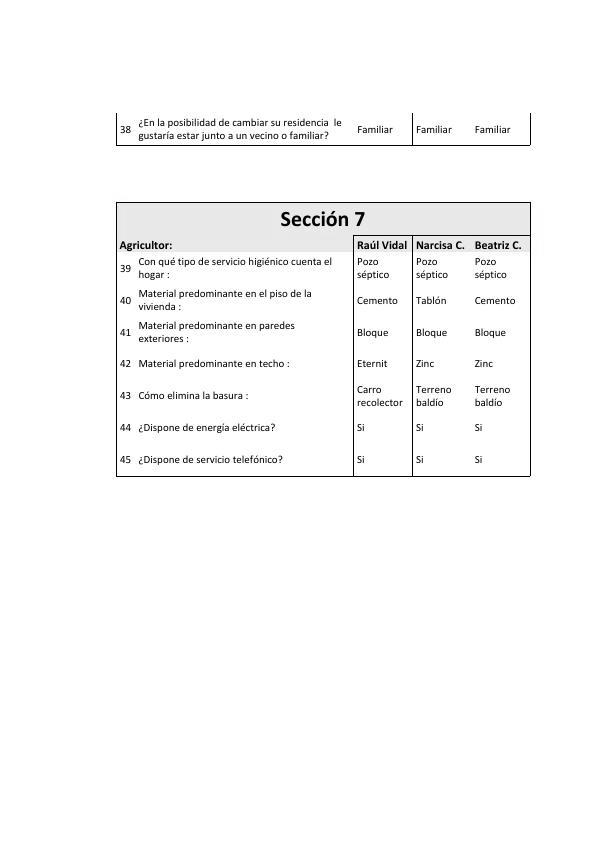table: (109, 197, 537, 482), (111, 111, 537, 150)
